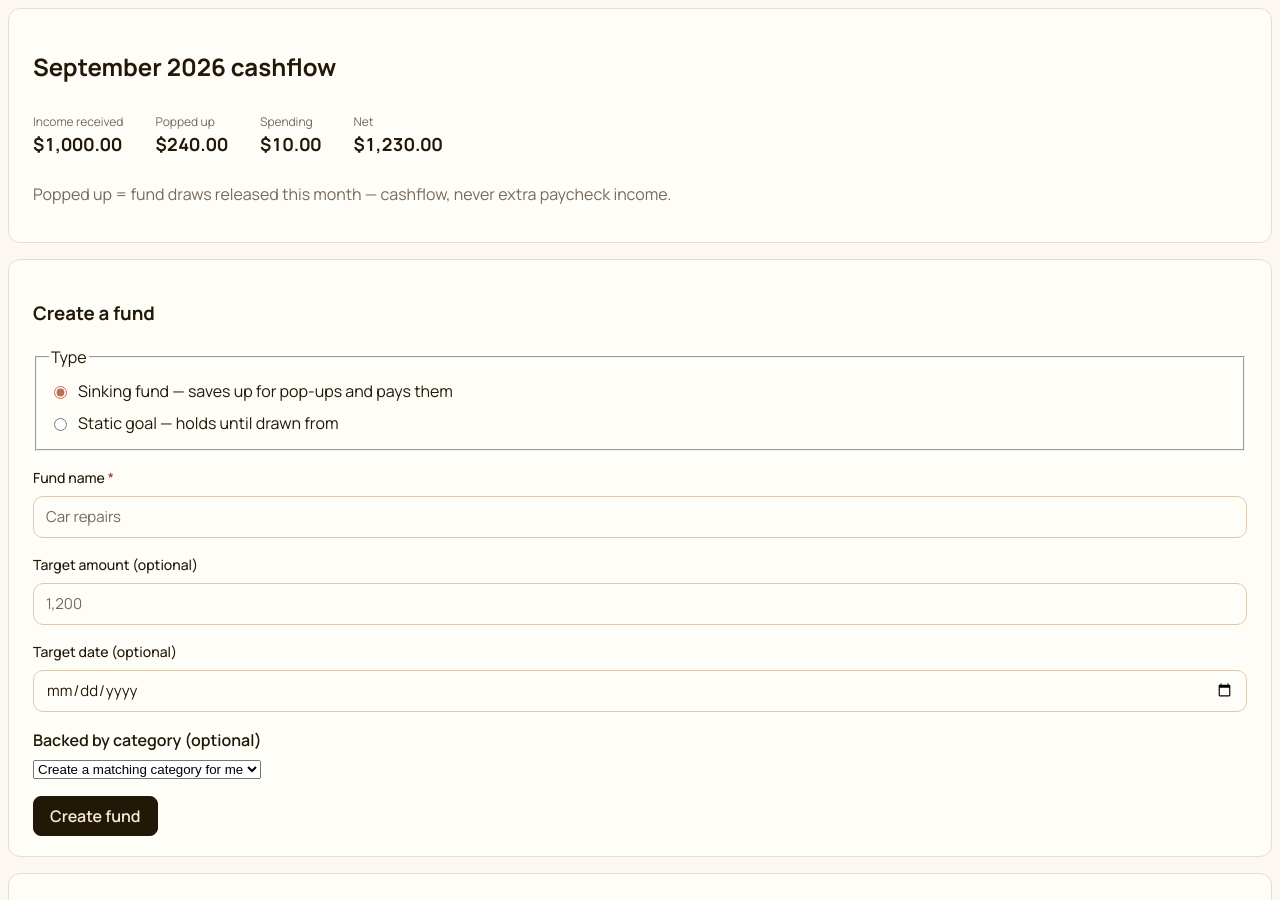
Test: FundsBoard — create fund › surfaces a rejection as an alert
In the field labelled "Fund name *": (640, 517) [33,496,1247,538], type "Dup"
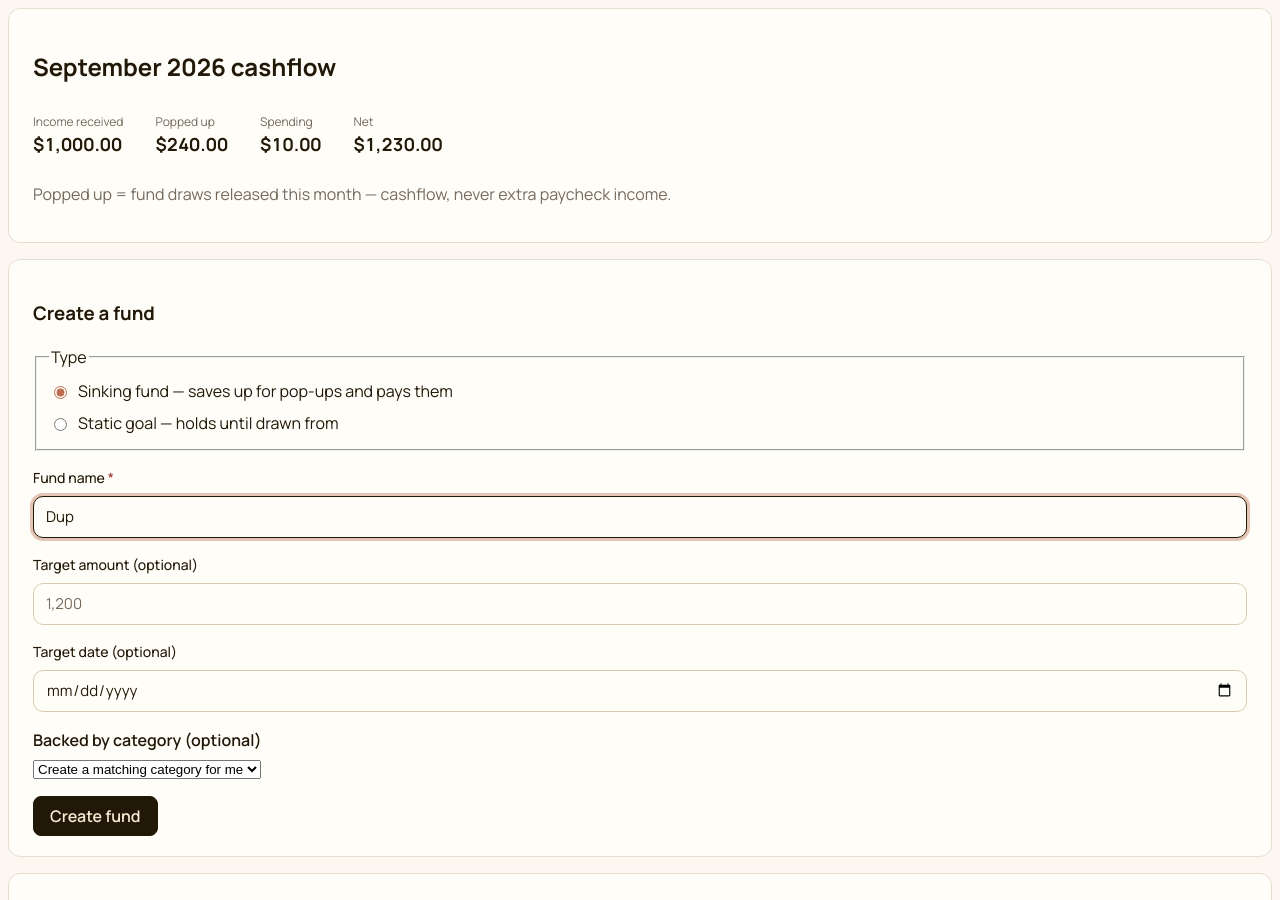
Click the button "Create fund": (95, 816) [33,796,158,836]
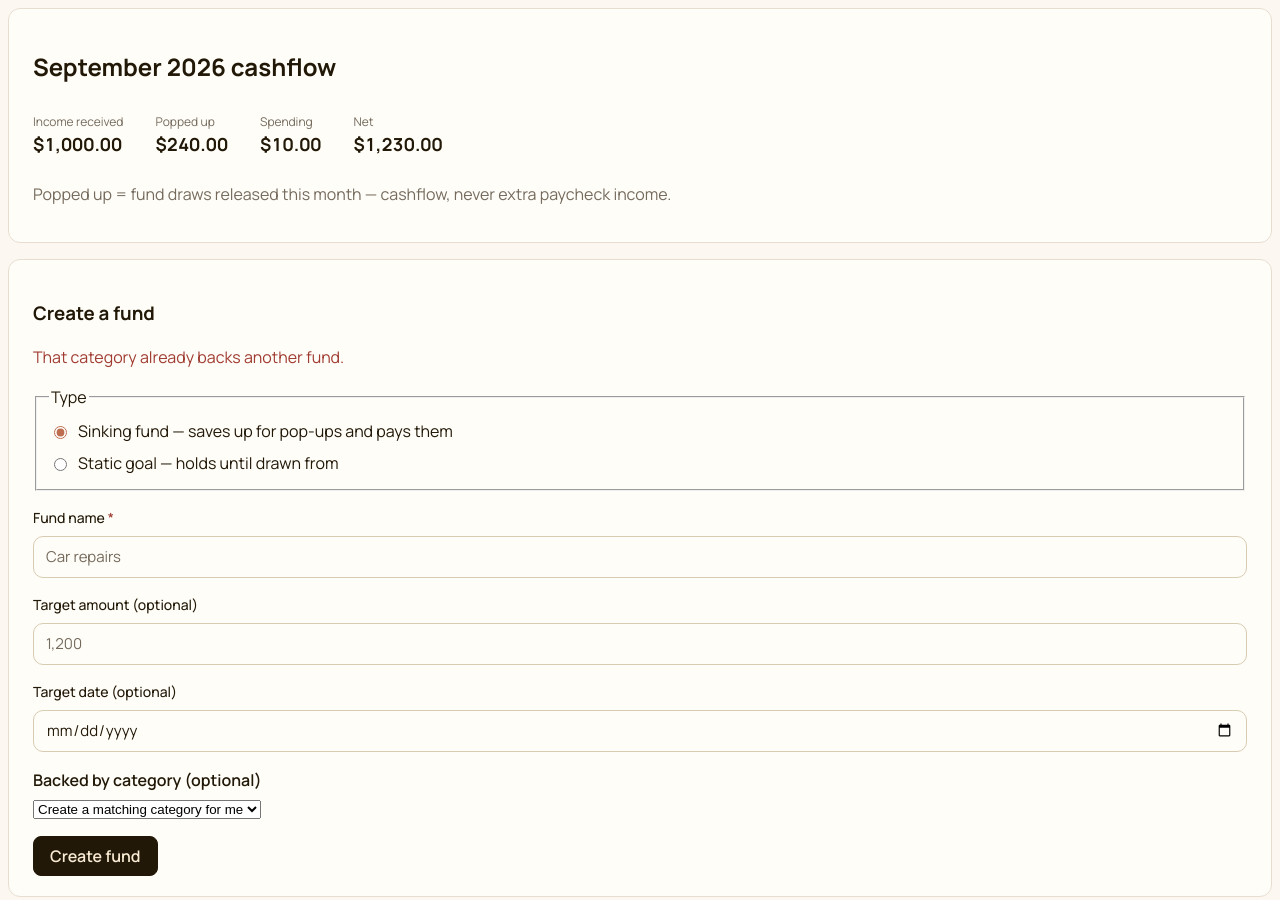
Now the message reads "That category already backs another fund.", box [33,346,344,368]
